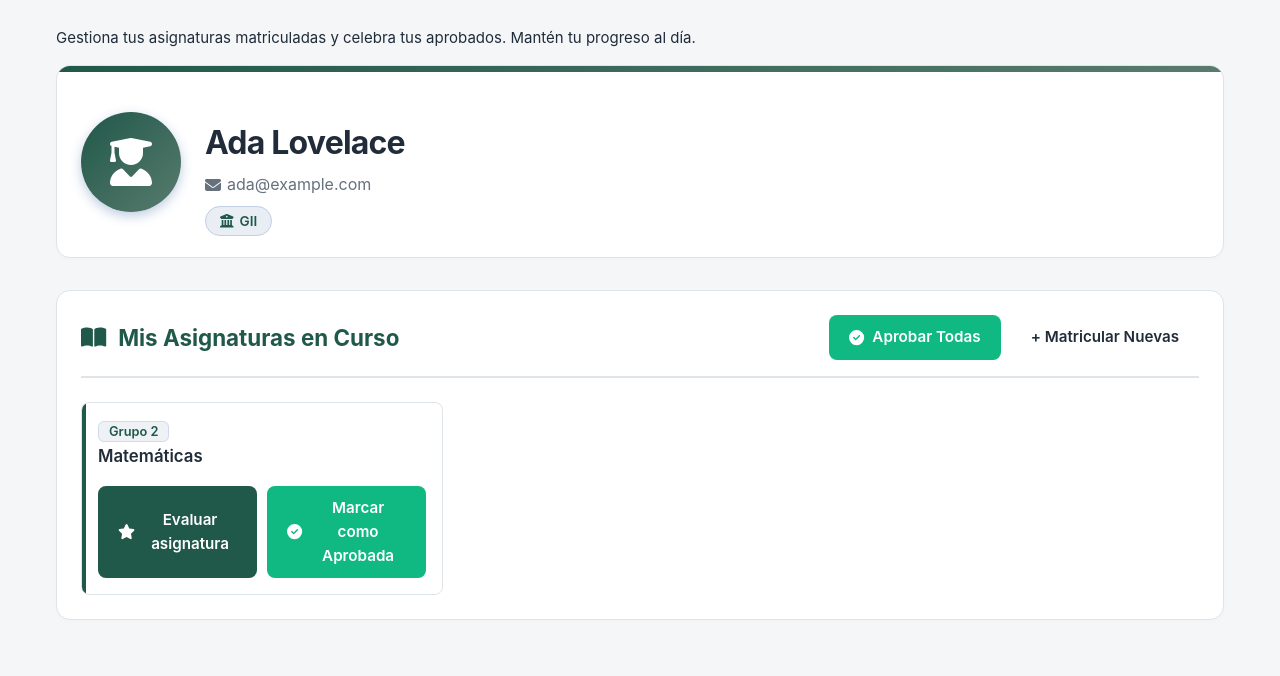
Scenario: MiPerfil - evaluación independiente › permite evaluar sin superar y mantiene la asignatura matriculada
(page scrolled)
Expected: the text "Matemáticas" is shown, [98,446,203,466]
Click the button "Evaluar asignatura": point(178, 532) [98,486,257,578]
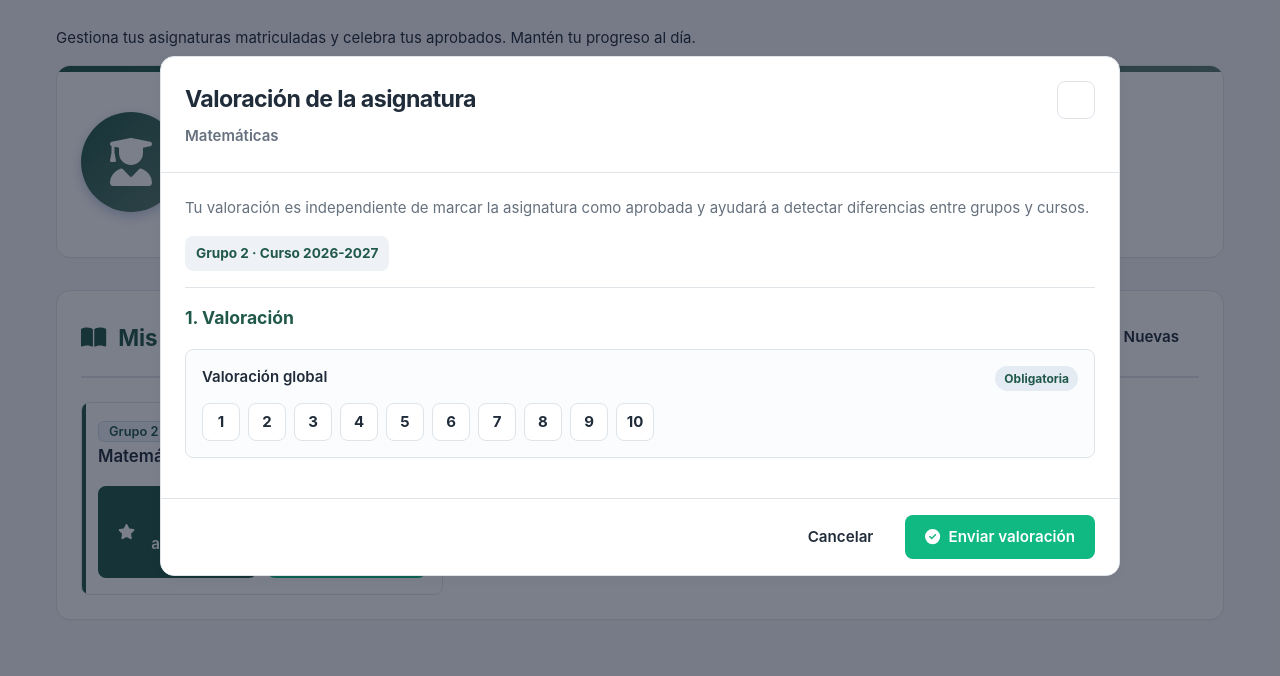
Now the text "Grupo 2 · Curso 2026-2027" is shown, box [185,236,390,271]
Click the button "8": point(543, 422) [524,403,562,441]
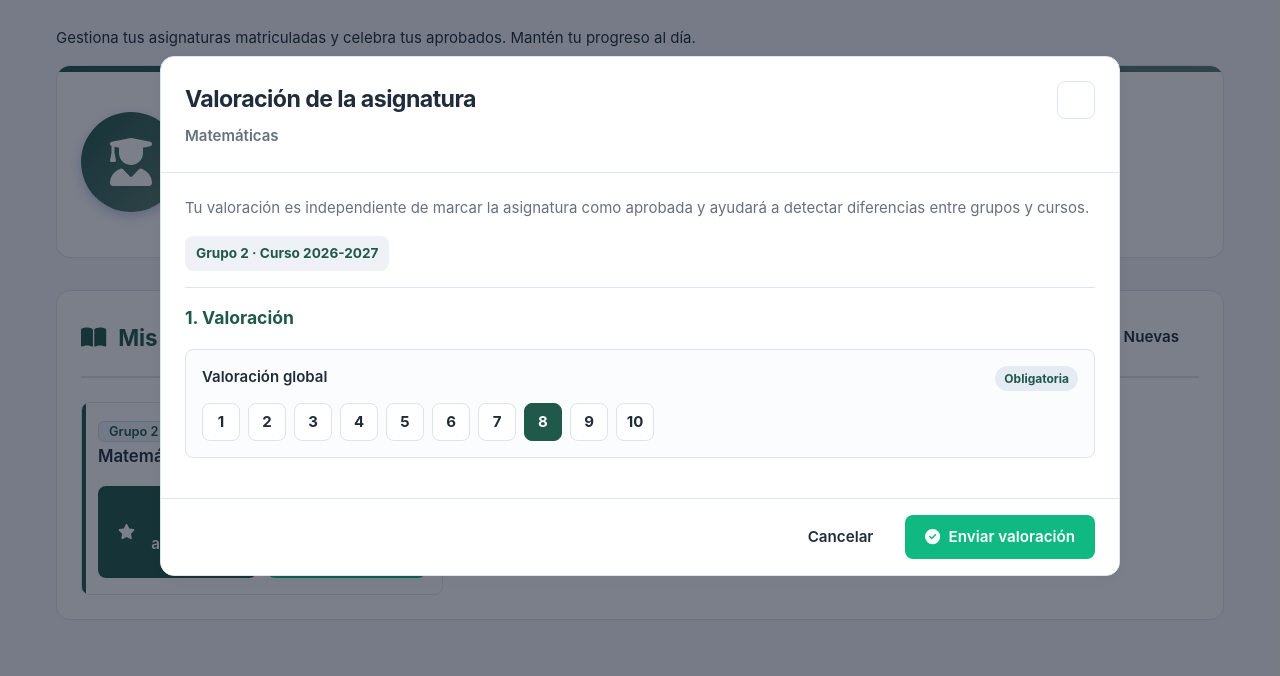
Click the button "Enviar valoración": point(1000, 537) [905,515,1095,559]
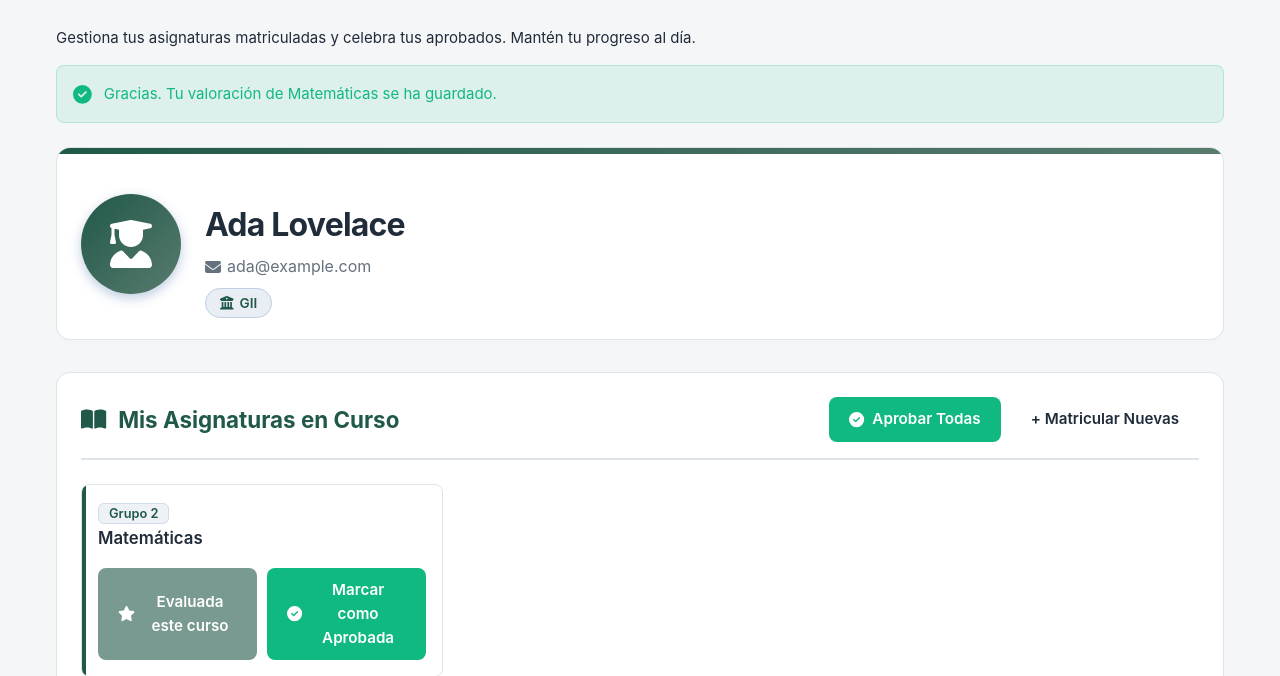
Expected: the text "Matemáticas" is shown, [98,528,203,548]
Now the button "Evaluada este curso" is disabled, box [98,568,257,660]
